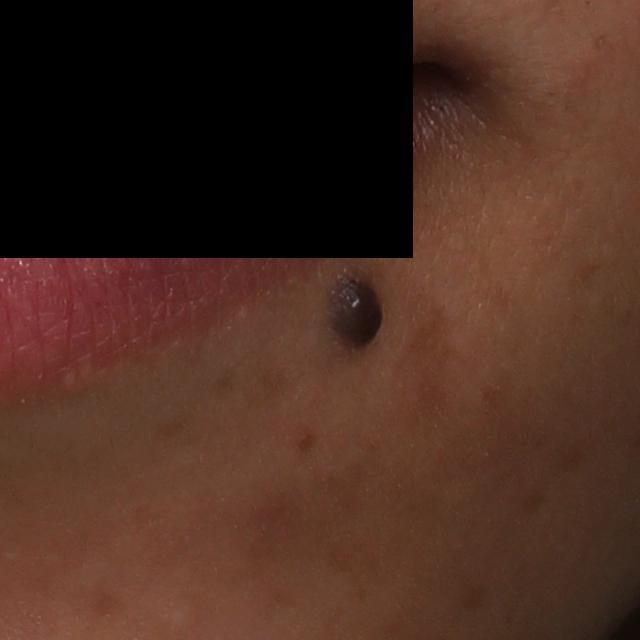nevus: (331, 272, 386, 353)
